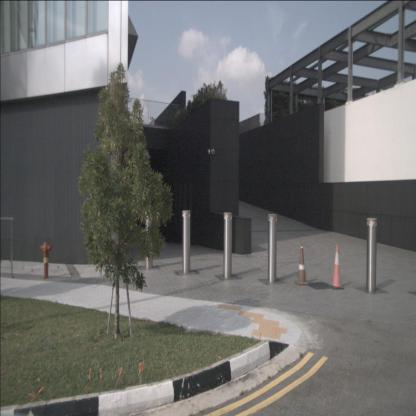cone: (294, 244, 310, 286), (330, 243, 344, 289)
